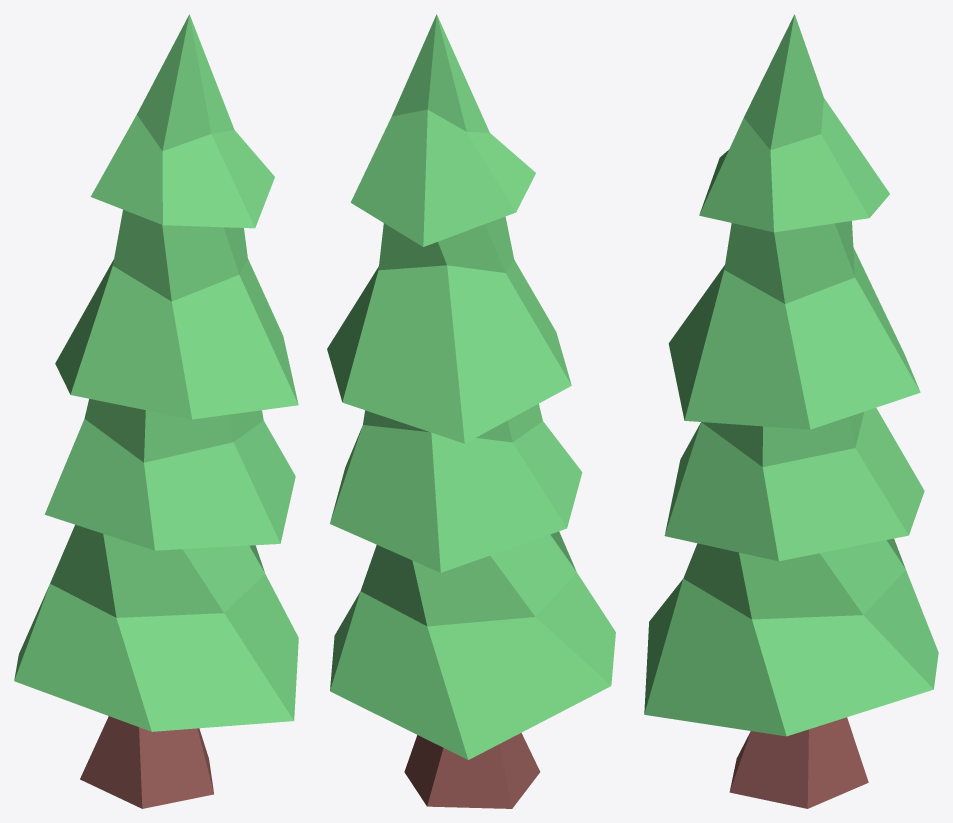
Rendered from arbol pino 7.fbx.
3 views of the same model, side by side, from view 1: azimuth 30°, elevation 25°; view 2: azimuth 150°, elevation 25°; view 3: azimuth 270°, elevation 25° (orthographic). The views are drawn at different scales.
Visible parts, largest first — view 1: SpruceTree3; view 2: SpruceTree3; view 3: SpruceTree3.
Part boxes in pixels (x1,y1,x2,y2): SpruceTree3: (14, 14, 298, 808); SpruceTree3: (327, 14, 615, 808); SpruceTree3: (644, 14, 938, 808).
Bounding box in the file's own units: 11191 × 28876 × 9848.
